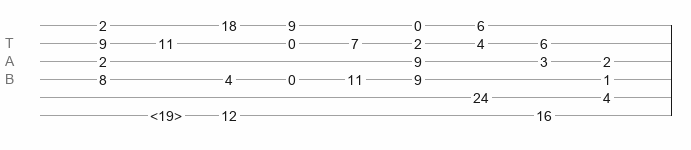0: (288, 72, 296, 82), (288, 36, 296, 46), (414, 18, 422, 28)
1: (603, 72, 611, 82)
11: (158, 36, 174, 46), (347, 72, 363, 82)
12: (221, 108, 237, 118)
16: (536, 108, 552, 118)
18: (221, 18, 237, 28)
2: (99, 54, 107, 64), (99, 18, 107, 28), (414, 36, 422, 46), (603, 54, 611, 64)
24: (473, 90, 489, 100)
3: (540, 54, 548, 64)
4: (225, 72, 233, 82), (477, 36, 485, 46), (603, 90, 611, 100)
6: (477, 18, 485, 28), (540, 36, 548, 46)
7: (351, 36, 359, 46)
8: (99, 72, 107, 82)
9: (99, 36, 107, 46), (288, 18, 296, 28), (414, 54, 422, 64), (414, 72, 422, 82)
harmonic: (150, 108, 182, 118)
